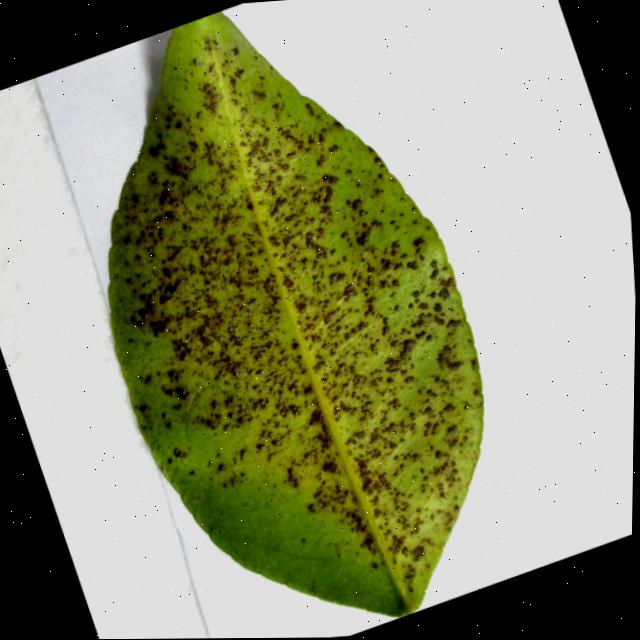melanose: (108, 13, 482, 616)
